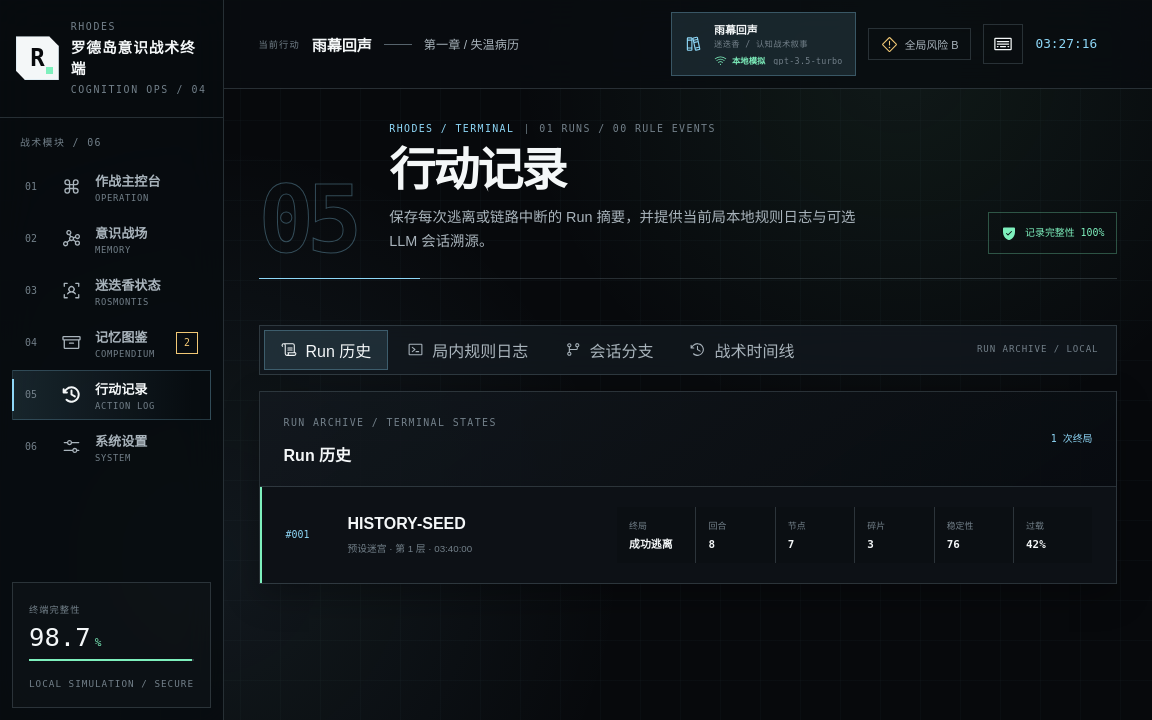
Test case: shows completed Run history and the current local rule log
Expected: the element "Run 历史" shows "HISTORY-SEED", [348, 515, 466, 532]
Click the tab "局内规则日志": coordinates (468, 350) [390, 330, 545, 370]
(page scrolled)
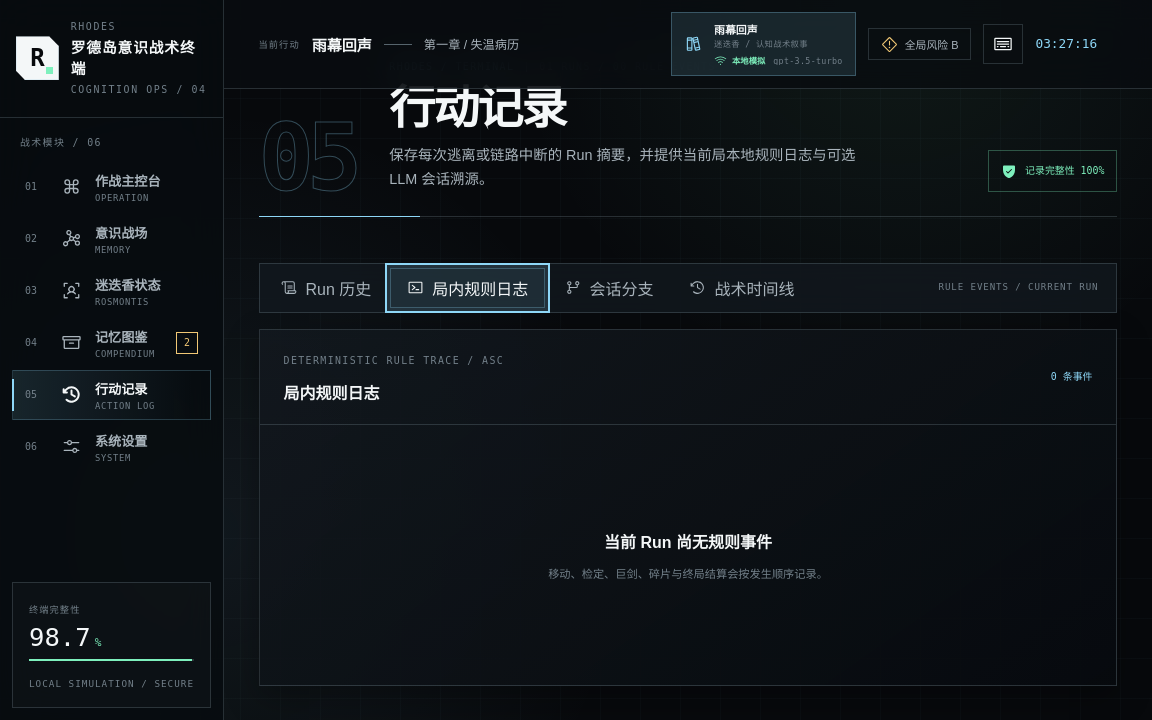
Result: the element "局内规则日志" is shown at [258, 329, 1117, 686]
